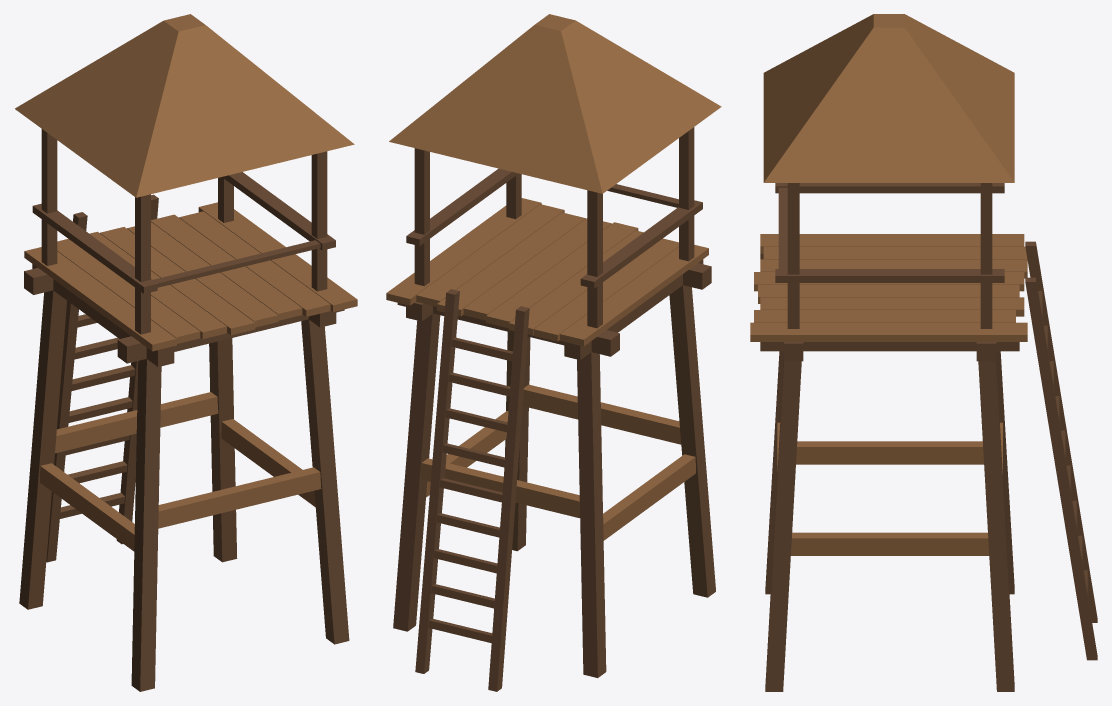
File: GuardTower_1_lvl_mat.fbx
3 views of the same model, side by side, from view 1: azimuth 30°, elevation 25°; view 2: azimuth 150°, elevation 25°; view 3: azimuth 270°, elevation 25° (orthographic). The views are drawn at different scales.
Visible parts, largest first — view 1: GuardTower_1_lvl_mat; view 2: GuardTower_1_lvl_mat; view 3: GuardTower_1_lvl_mat.
Part boxes in pixels (bbox=[...]): GuardTower_1_lvl_mat: bbox=[15, 14, 357, 691]; GuardTower_1_lvl_mat: bbox=[386, 14, 721, 691]; GuardTower_1_lvl_mat: bbox=[750, 14, 1097, 691].
Size of the model in its own units: 1.47 by 3.84 by 1.96.
